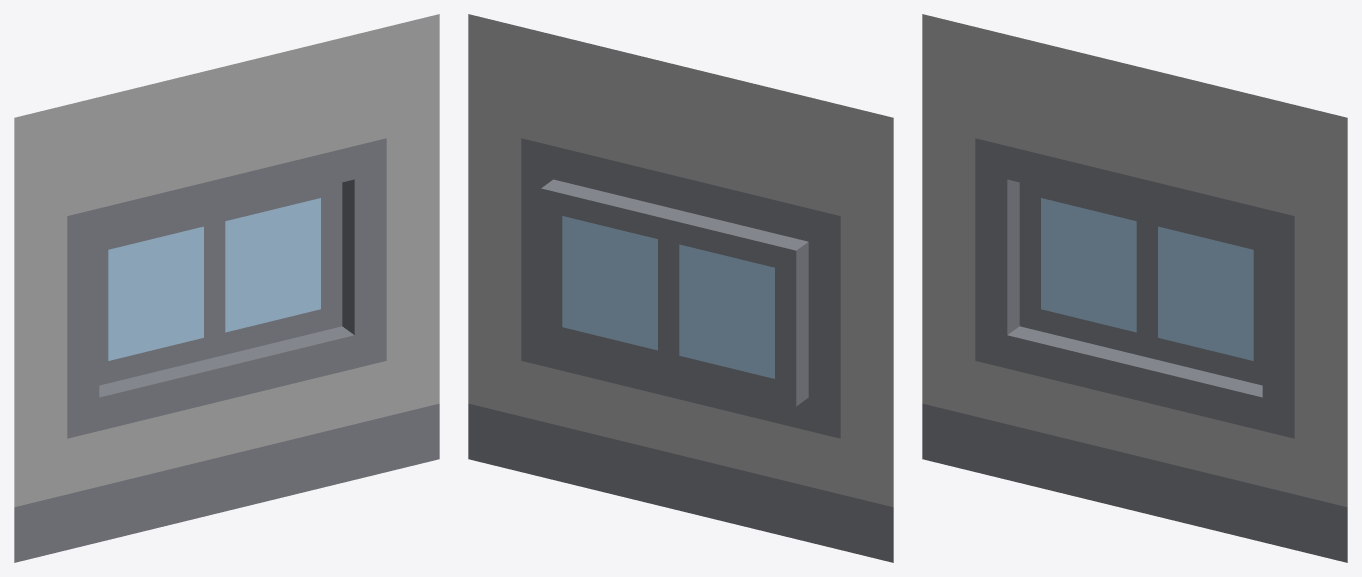
The model's file is wall_windowC.fbx.
The picture shows the model from 3 angles, left to right: view 1: azimuth 30°, elevation 25°; view 2: azimuth 150°, elevation 25°; view 3: azimuth 330°, elevation 25°; orthographic projection.
Visible parts, largest first — view 1: wall_windowC; view 2: wall_windowC; view 3: wall_windowC.
Part boxes in pixels (left/top/right/bottom): wall_windowC: left=14, top=14, right=439, bottom=562; wall_windowC: left=468, top=14, right=893, bottom=562; wall_windowC: left=922, top=14, right=1347, bottom=562.
Size of the model in its own units: 4 by 4 by 0.2.
